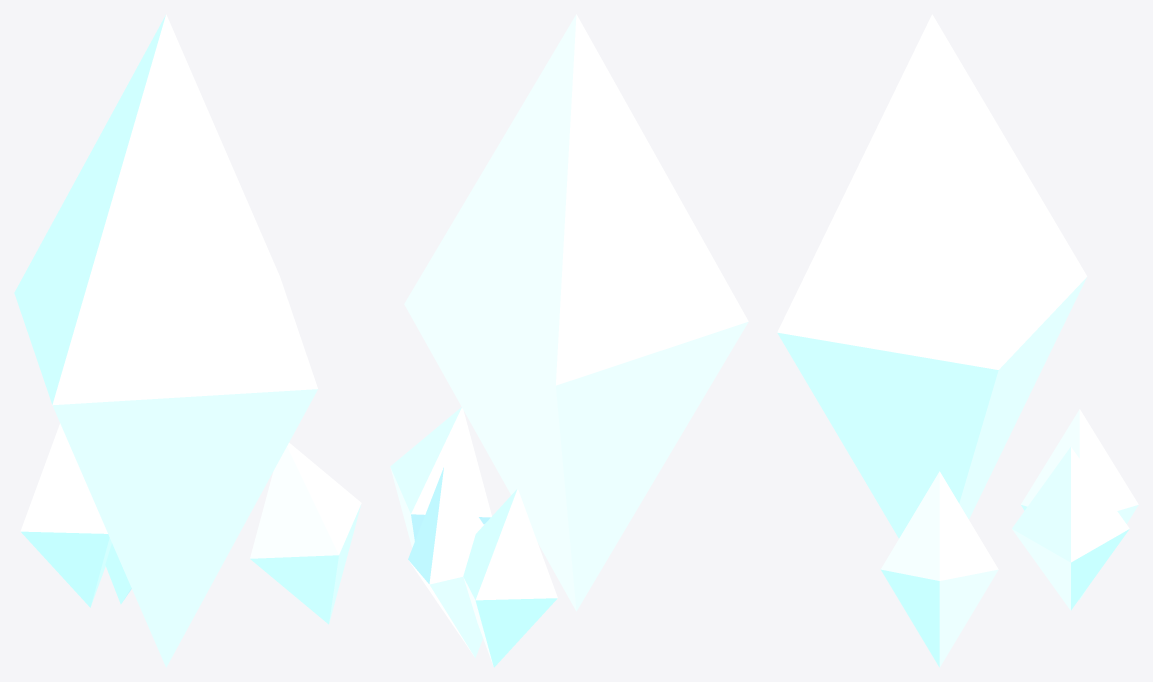
The model's file is crystal_0.glb.
3 views of the same model, side by side, from view 1: azimuth 30°, elevation 25°; view 2: azimuth 150°, elevation 25°; view 3: azimuth 270°, elevation 25° (orthographic). The views are drawn at different scales.
Parts seen in each view (by area): view 1: crystal_0; view 2: crystal_0; view 3: crystal_0.
Part boxes in pixels (box(x1,y1,x2,y2)): crystal_0: box(14, 14, 361, 667); crystal_0: box(390, 14, 748, 667); crystal_0: box(777, 14, 1138, 667).
Bounding box in the file's own units: 0.8533 × 1.53 × 0.8575.
